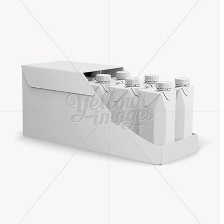carton: (138, 79, 176, 148), (107, 76, 140, 137), (174, 76, 194, 145), (83, 71, 113, 109)
